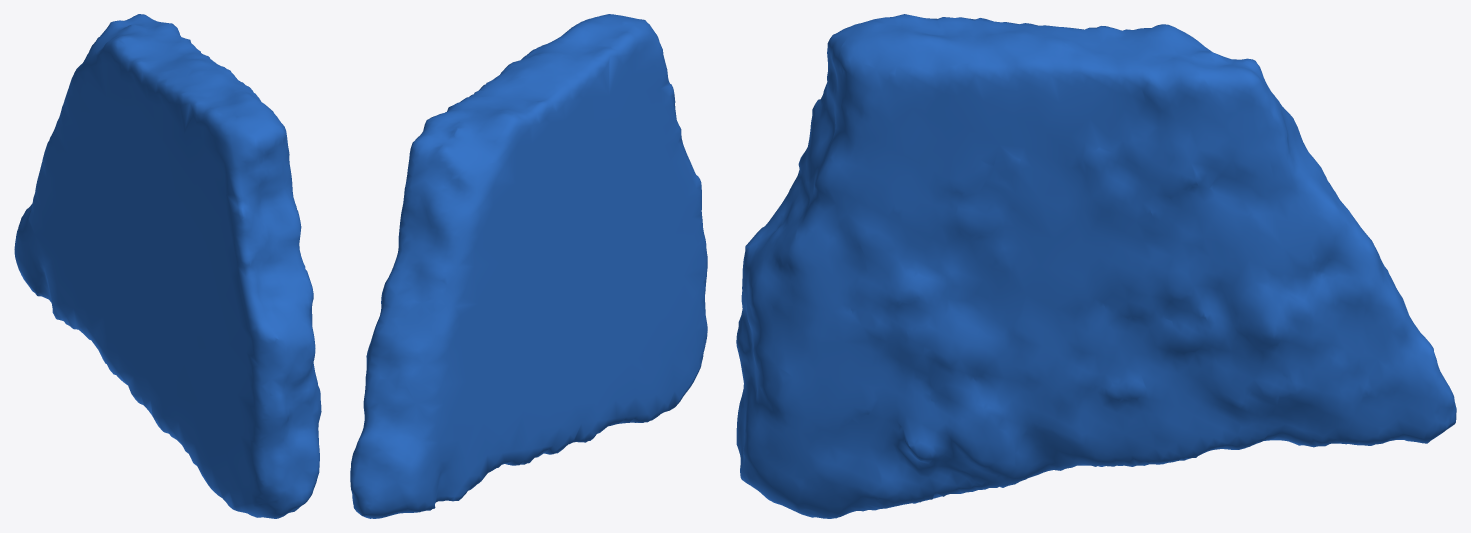
The picture shows the model from 3 angles, left to right: view 1: azimuth 30°, elevation 25°; view 2: azimuth 150°, elevation 25°; view 3: azimuth 270°, elevation 25°; orthographic projection. The views are drawn at different scales.
Visible parts, largest first — view 1: Object_1; view 2: Object_1; view 3: Object_1.
Part boxes in pixels (x1=…): Object_1: x1=14, y1=14, x2=321, y2=518; Object_1: x1=350, y1=14, x2=707, y2=518; Object_1: x1=736, y1=14, x2=1456, y2=518.
Size of the model in its own units: 173 by 637 by 853.
